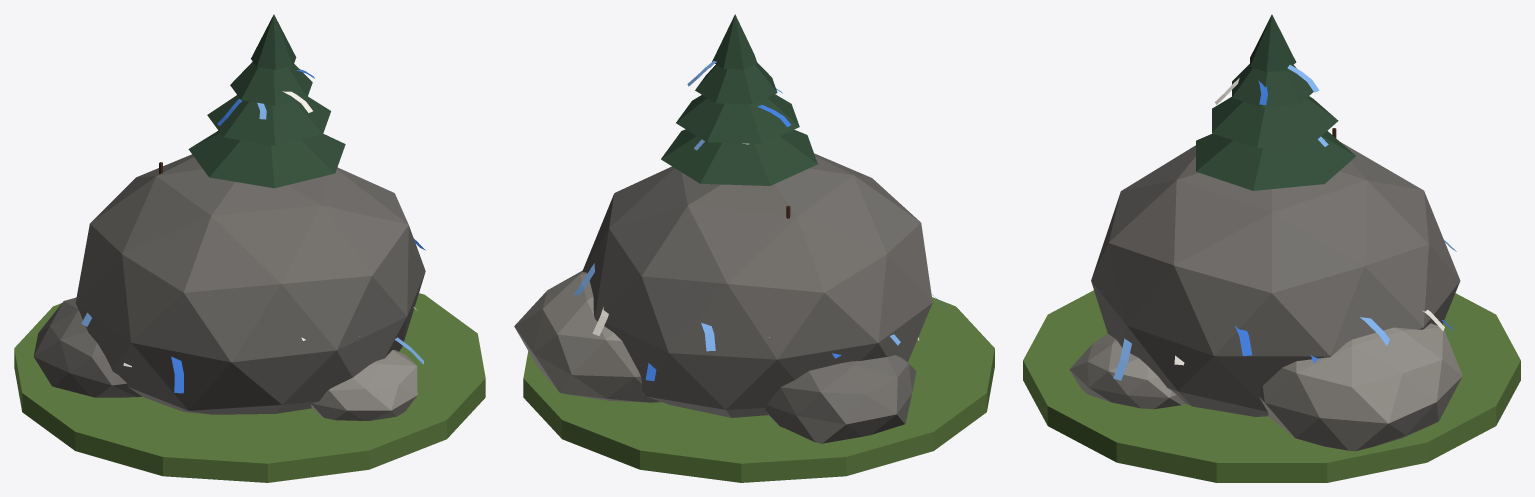
File: wishrock.glb
3 renders of one model, left to right at view 1: azimuth 30°, elevation 25°; view 2: azimuth 150°, elevation 25°; view 3: azimuth 270°, elevation 25°, orthographic. The views are drawn at different scales.
Parts seen in each view (by area): view 1: wishrock; view 2: wishrock; view 3: wishrock.
Boxes of the visible parts, x1,y1,x2,y2 form: wishrock: (14, 14, 485, 482); wishrock: (514, 14, 994, 482); wishrock: (1023, 14, 1520, 482).
Size of the model in its own units: 10.92 by 10.27 by 11.2.
